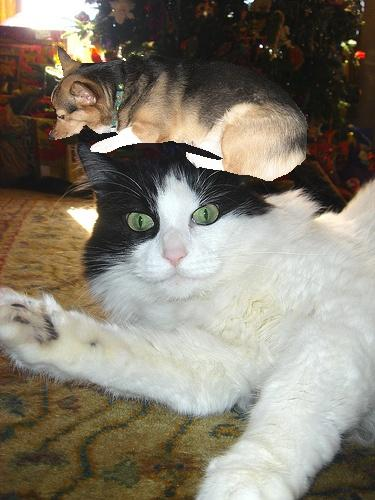tampered: (49, 46, 307, 181)
